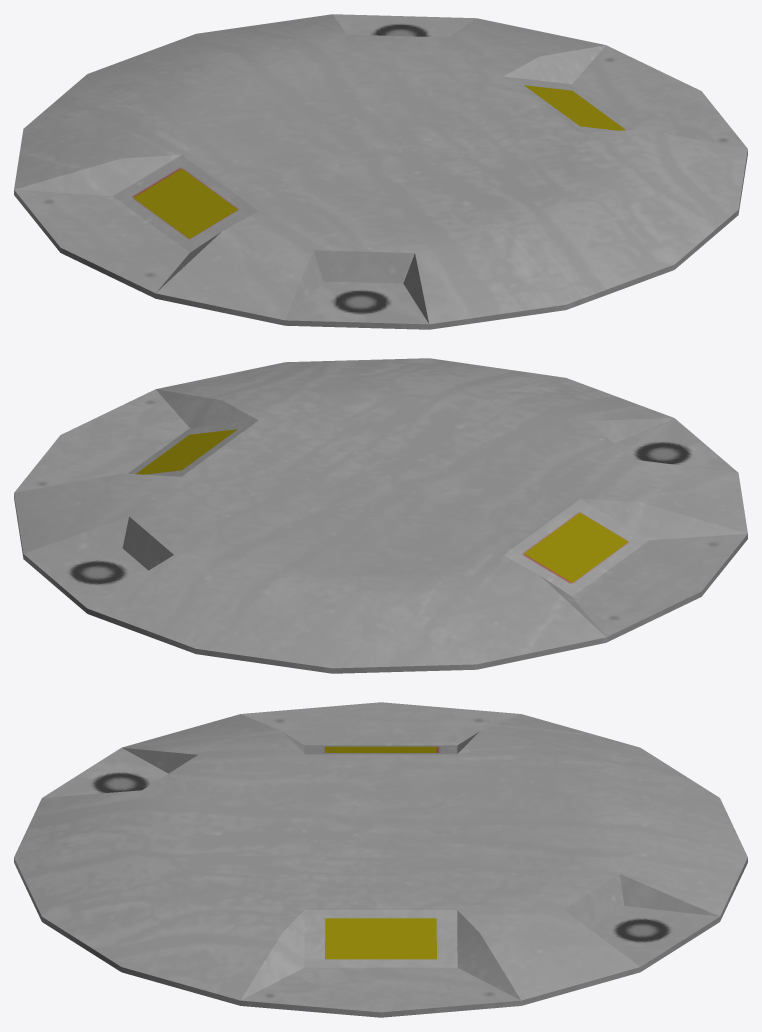
The model's file is SM_Runway_Lamp_Pancake_Yellow.fbx.
3 views of the same model, one above another, from view 1: azimuth 30°, elevation 25°; view 2: azimuth 150°, elevation 25°; view 3: azimuth 270°, elevation 25° (orthographic).
Visible parts, largest first — view 1: SM_Runway_Lamp_Pancake_Yellow; view 2: SM_Runway_Lamp_Pancake_Yellow; view 3: SM_Runway_Lamp_Pancake_Yellow.
Part boxes in pixels (<box>): SM_Runway_Lamp_Pancake_Yellow: <box>14,14,747,329</box>; SM_Runway_Lamp_Pancake_Yellow: <box>14,358,747,673</box>; SM_Runway_Lamp_Pancake_Yellow: <box>14,702,747,1017</box>.
Bounding box in the file's own units: 0.2456 × 0.0113 × 0.2456.
